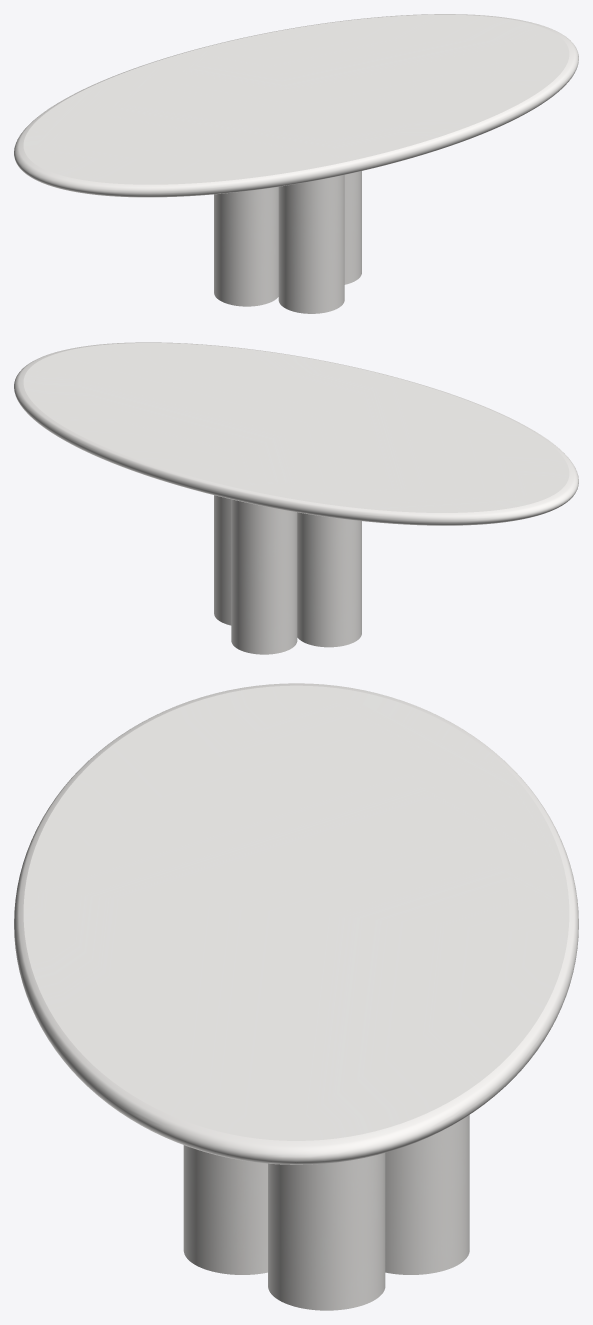
The model's file is purewhite_ellips_round_secondtable.glb.
3 views of the same model, one above another, from view 1: azimuth 30°, elevation 25°; view 2: azimuth 150°, elevation 25°; view 3: azimuth 270°, elevation 25° (orthographic). The views are drawn at different scales.
Visible parts, largest first — view 1: round_ellips, secondtable; view 2: round_ellips, secondtable; view 3: round_ellips, secondtable.
Boxes of the visible parts, x1,y1,x2,y2 form: round_ellips: [14, 14, 578, 197]; secondtable: [214, 171, 361, 313]; round_ellips: [14, 342, 578, 525]; secondtable: [214, 495, 361, 654]; round_ellips: [14, 683, 578, 1164]; secondtable: [183, 1115, 469, 1310].
Size of the model in its own units: 7.5 by 2.5 by 3.8.
1 material, 1 textured.
